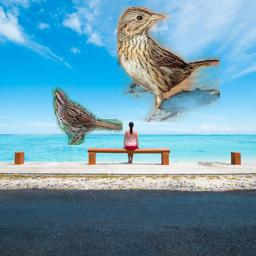Sparrow: (117, 6, 220, 122), (52, 87, 123, 145)
